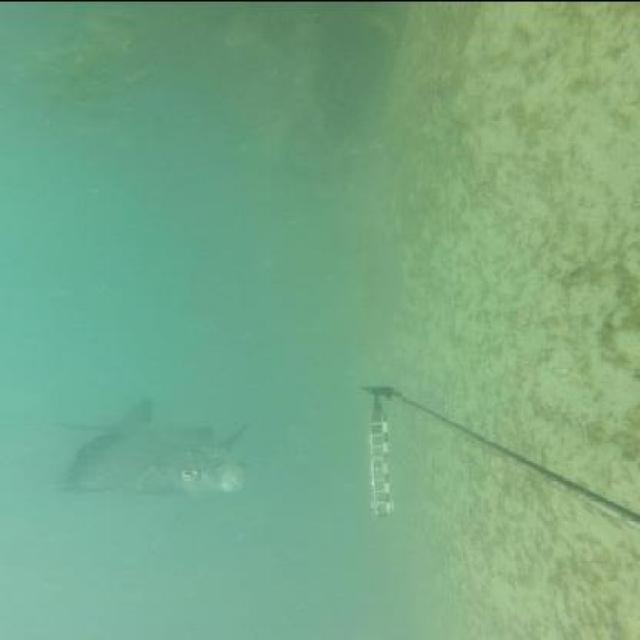acanthopagrus_palmaris: (53, 393, 253, 493)
